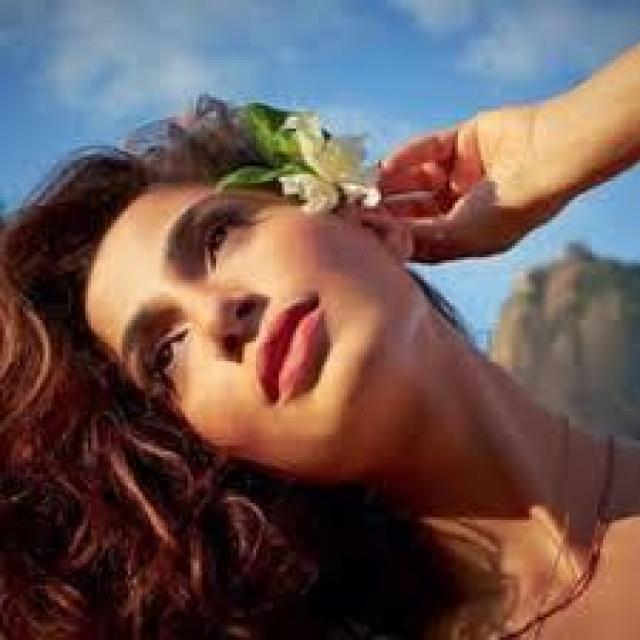person: (3, 95, 637, 634)
